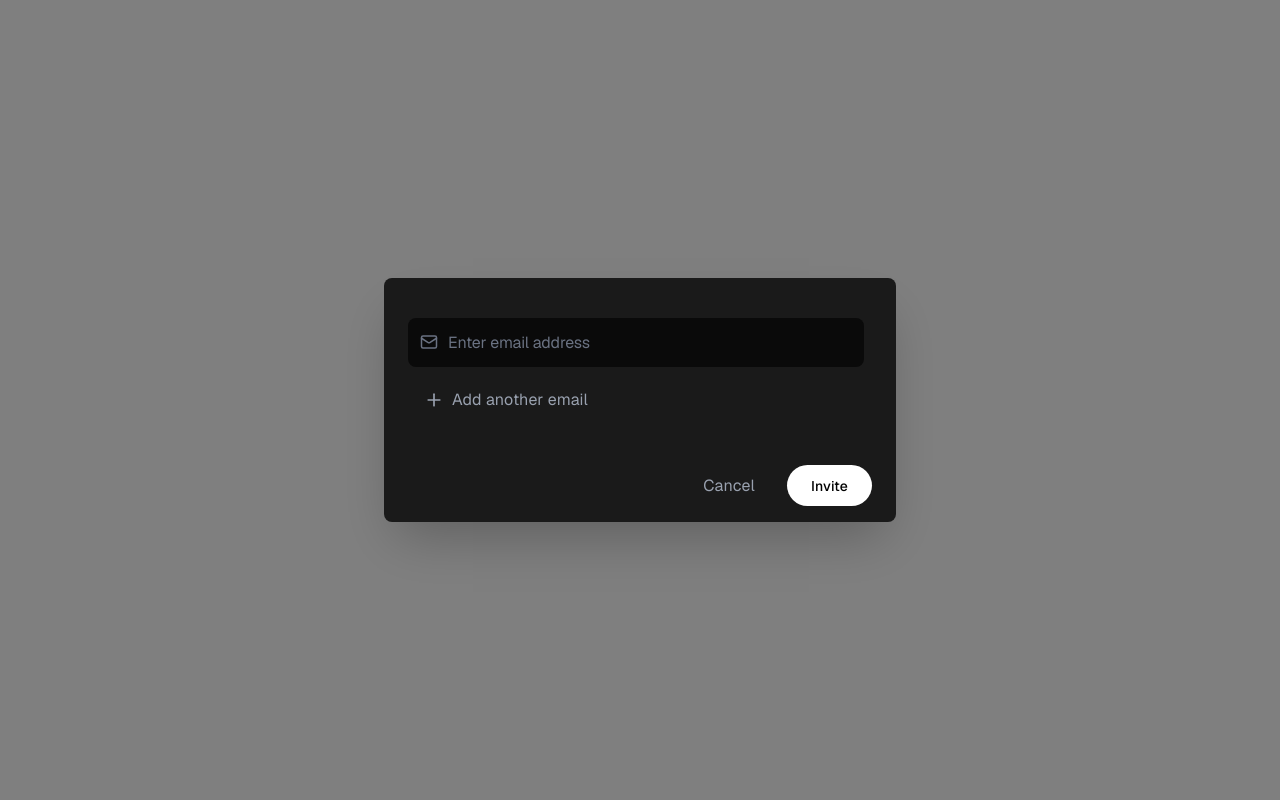
InviteMembersDialog Component › should add a new email input when "Add another email" is clicked
The image size is (1280, 800).
Expected: the number of fields with placeholder "Enter email address" is 1, top-left (408, 318), bottom-right (864, 367)
# Click to add another email
What coordinates should you click on to do the following:
click the button "Add another email"
I would click on:
 (520, 400)
Its box is top-left (408, 375), bottom-right (872, 425).
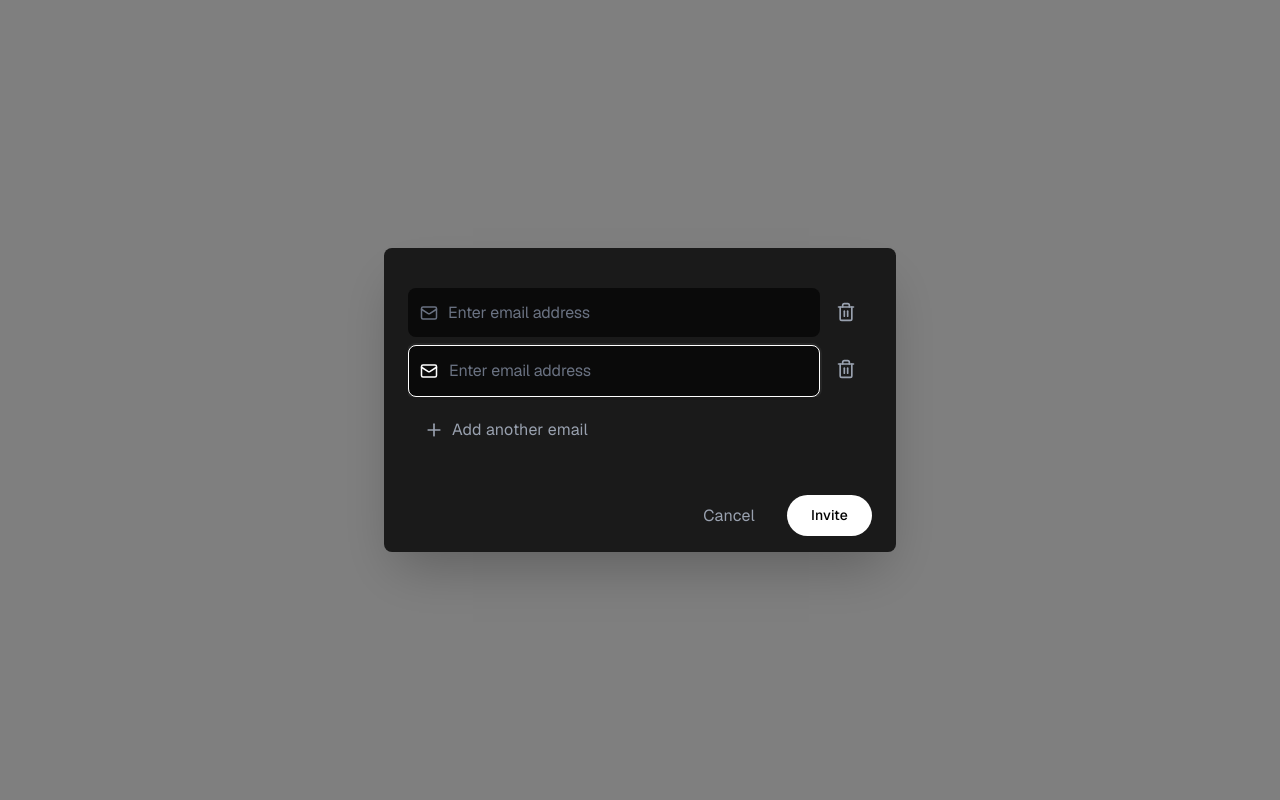
Expected: the number of fields with placeholder "Enter email address" is 2, top-left (408, 288), bottom-right (820, 337); top-left (408, 345), bottom-right (820, 397)
